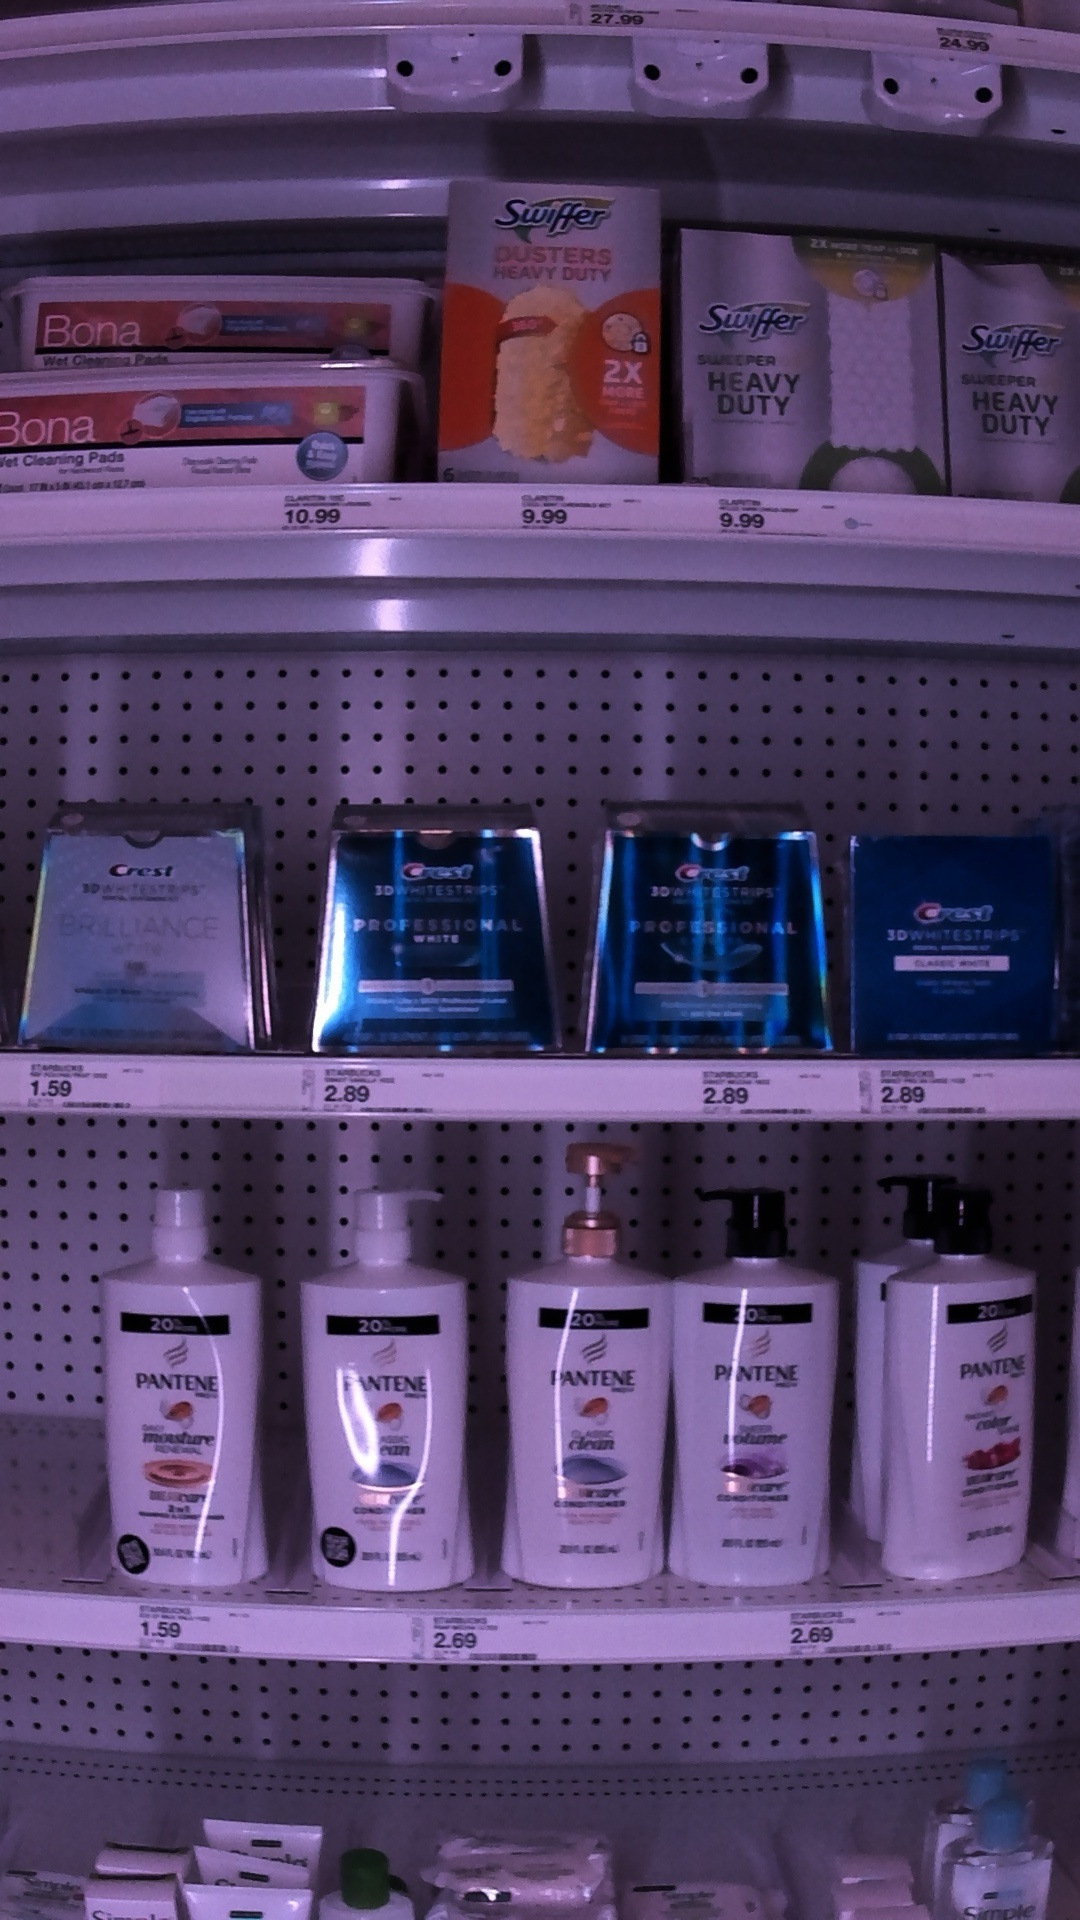ptag: (709, 487, 873, 560), (11, 1046, 160, 1122), (855, 1051, 998, 1124), (293, 1055, 454, 1120), (404, 1602, 549, 1671), (273, 477, 426, 542), (506, 483, 649, 549), (691, 1058, 833, 1124), (140, 1593, 258, 1665), (782, 1600, 918, 1660), (920, 11, 1015, 65), (551, 7, 704, 37)
